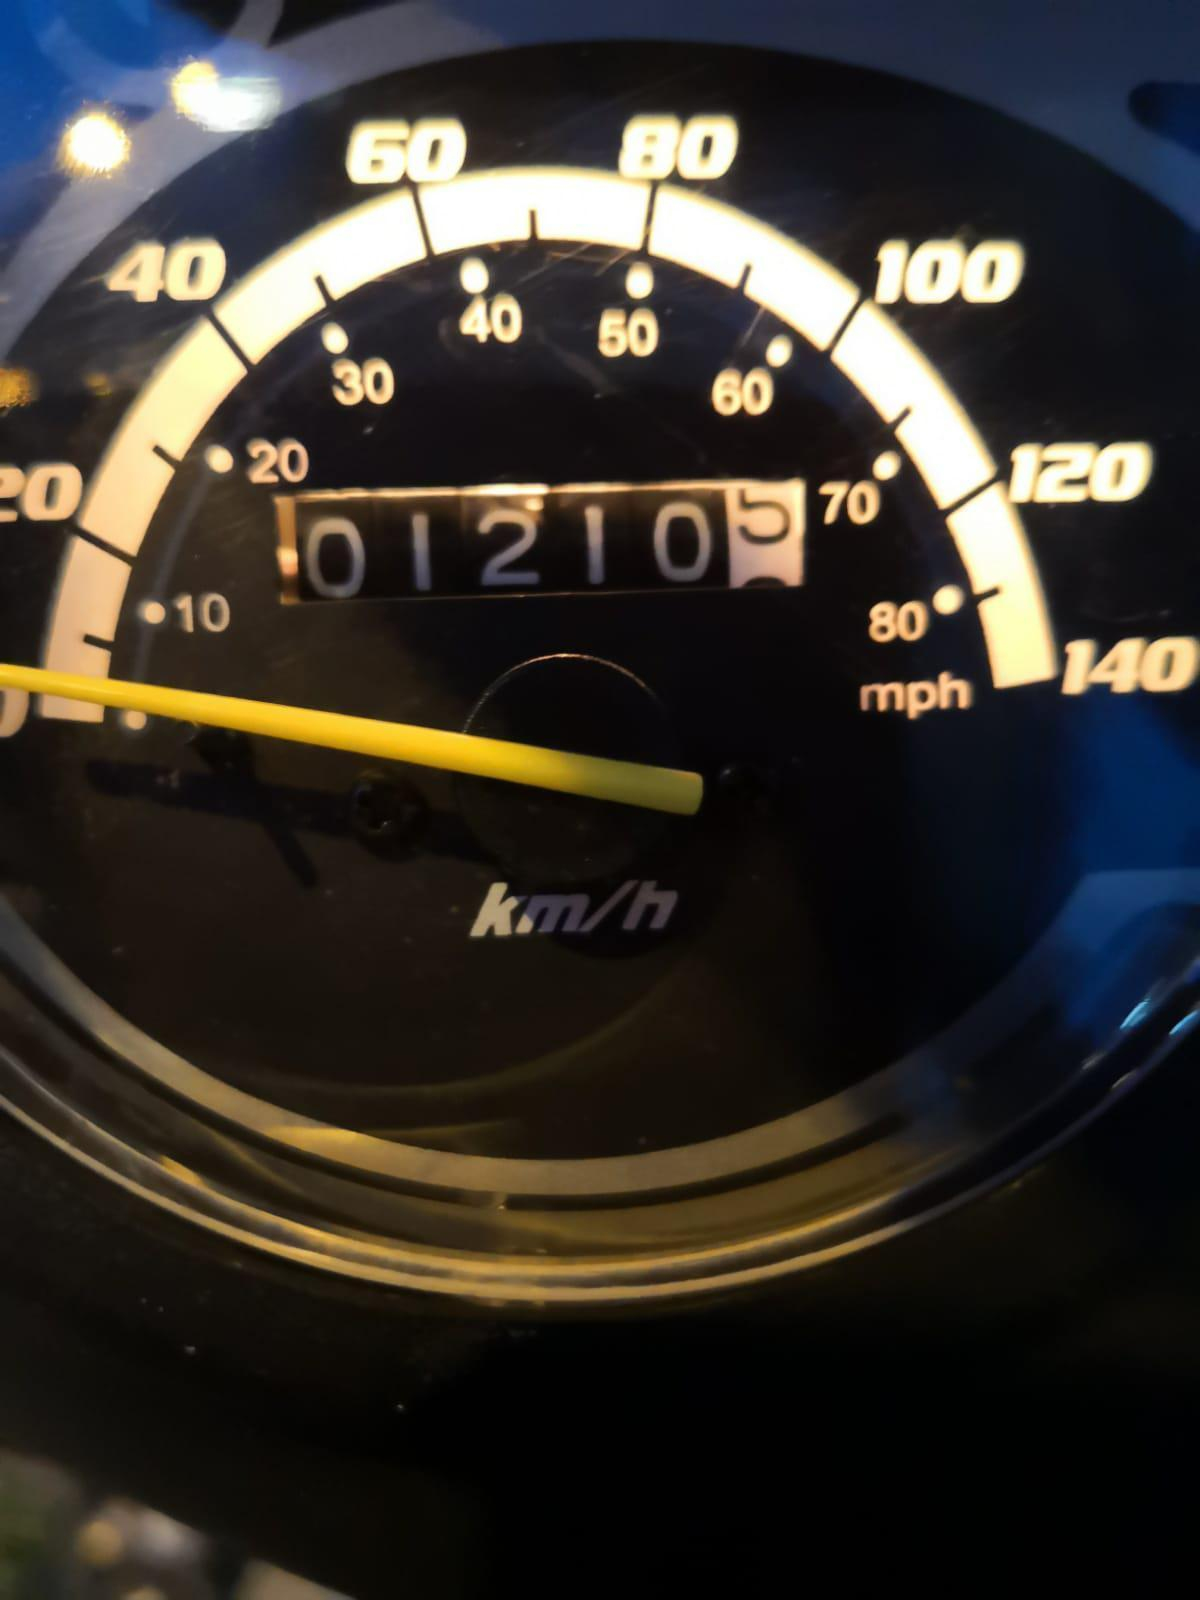0: (647, 494, 726, 593), (299, 509, 379, 601)
1: (389, 496, 451, 598), (571, 494, 628, 596)
2: (476, 506, 546, 596)
5: (737, 469, 799, 556)
odometer: (262, 479, 821, 609)
